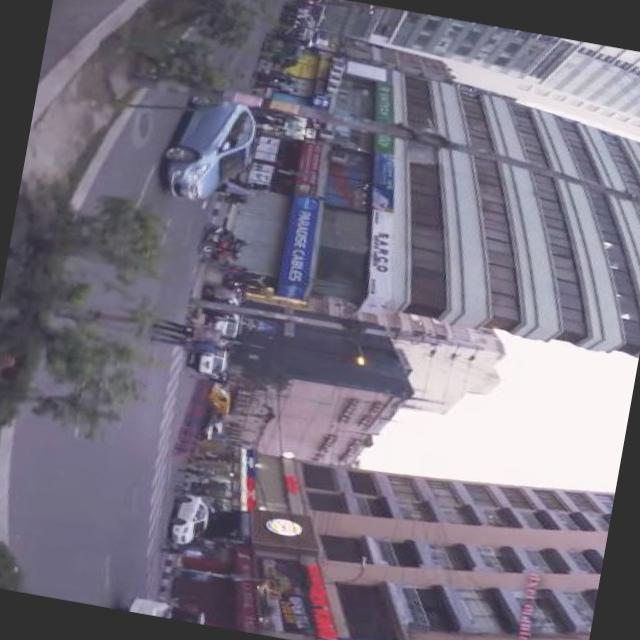car: (158, 88, 264, 208), (169, 489, 214, 547), (193, 344, 229, 374)
motorcycle: (262, 32, 305, 68), (200, 221, 240, 257)
truck: (211, 379, 236, 413)
